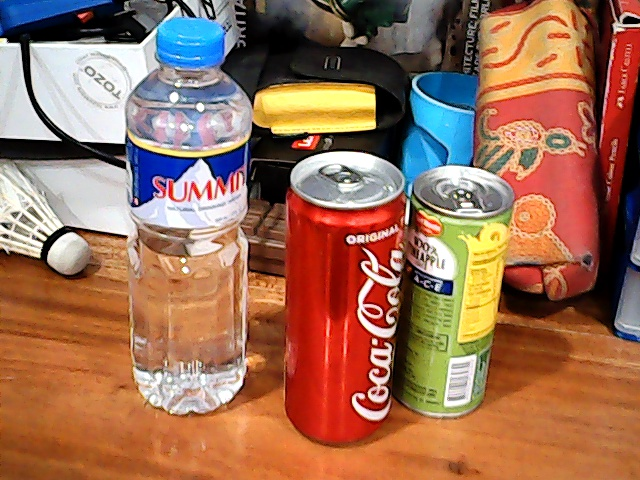Cola: (272, 151, 402, 440)
Pine Juice: (401, 159, 523, 417)
Summit Water: (105, 16, 265, 418)
